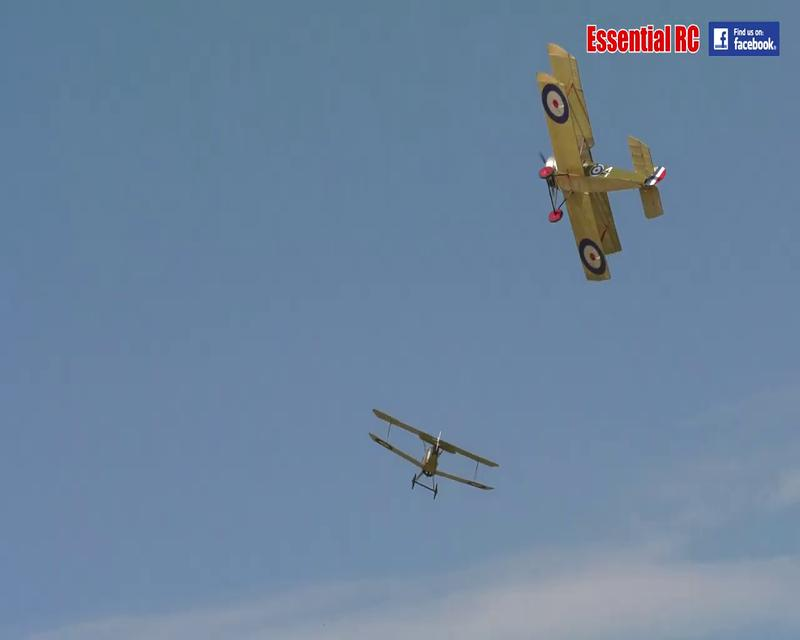UAV: (536, 43, 666, 282), (369, 408, 500, 501)
